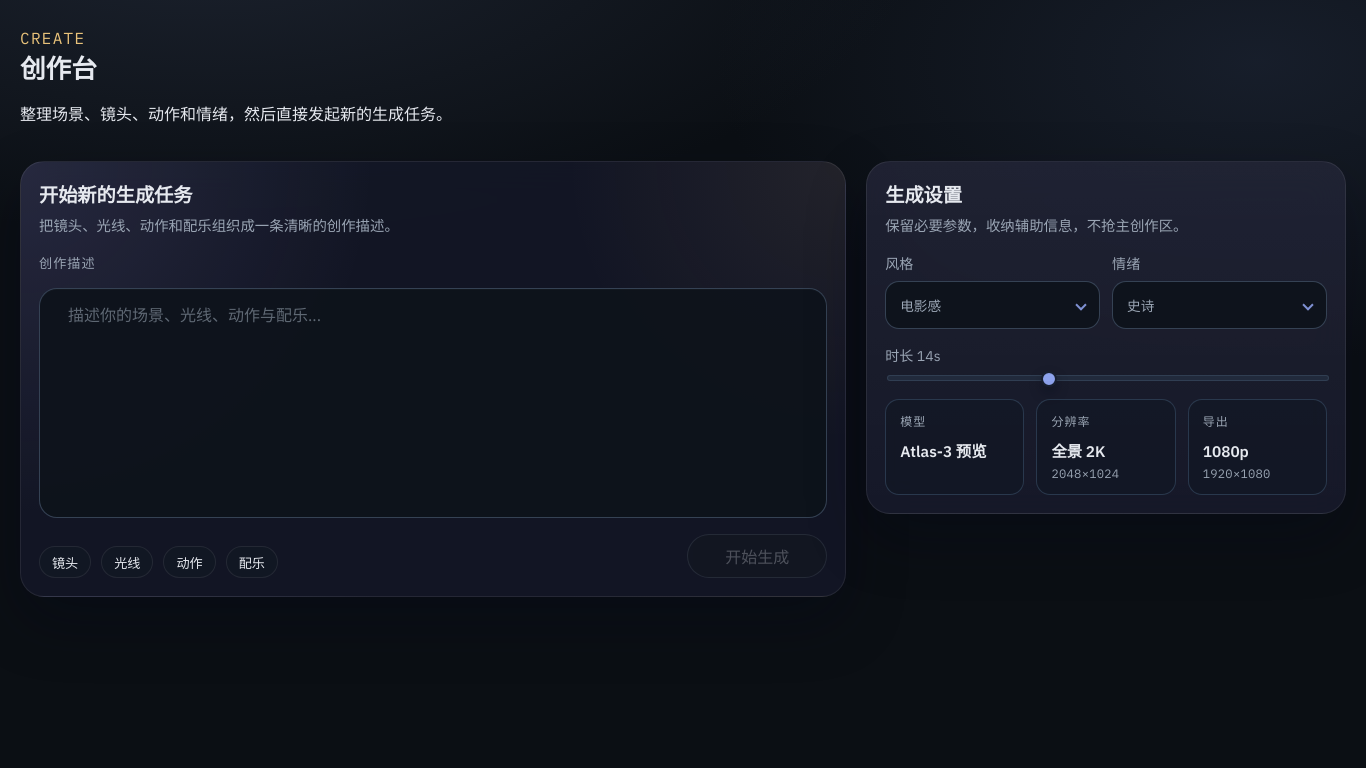
Test: CreatePage recovery › shows helper chips as category prompts instead of concrete examples
Expected: the button "光线" is shown, [101,546,153,578]
What coordinates should you click on to do the following:
click the button "镜头"
I would click on:
 (65, 562)
Its box is [39,546,91,578].
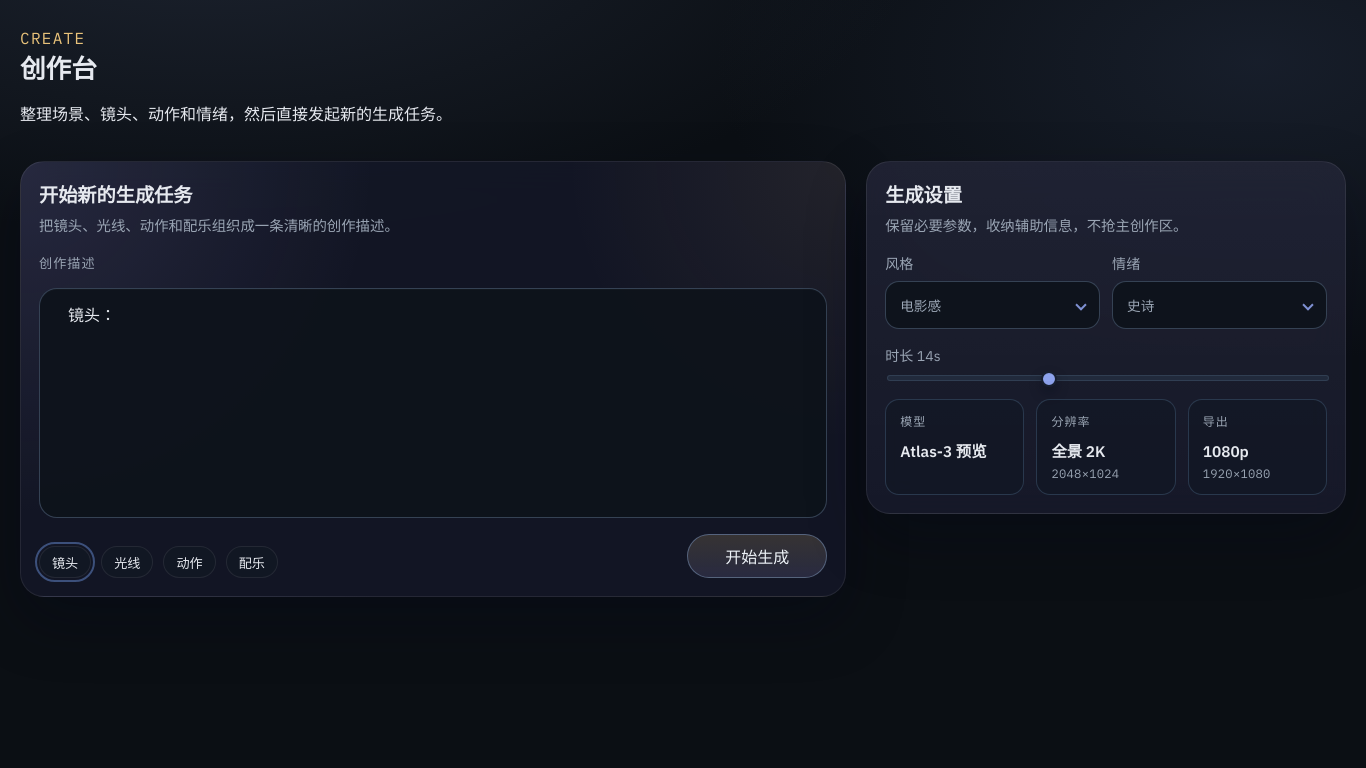
Expected: the element "镜头" is shown, [20,161,846,597]
Expected: the text box with placeholder "描述你的场景、光线、动作与配乐..." holds "镜头：", [39,288,827,518]
